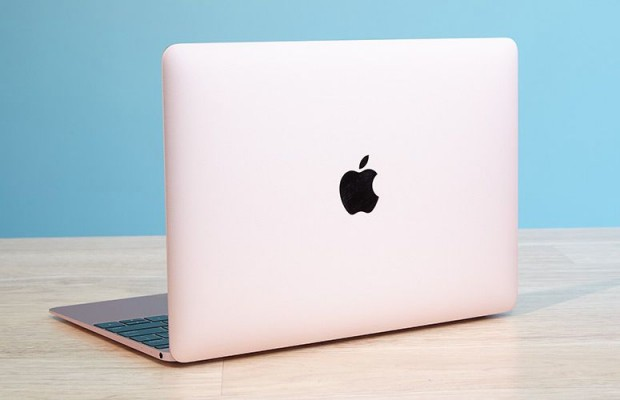apple: (322, 142, 385, 225)
